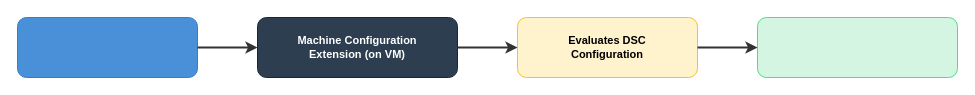
Image size: 975x95. Some labels were removed from this diagram. Each missing label, with the centre of its shape:
"Azure Policy Assignment" goes at pixel 107 47.
"Reports Compliance to Azure Policy" goes at pixel 857 47.
